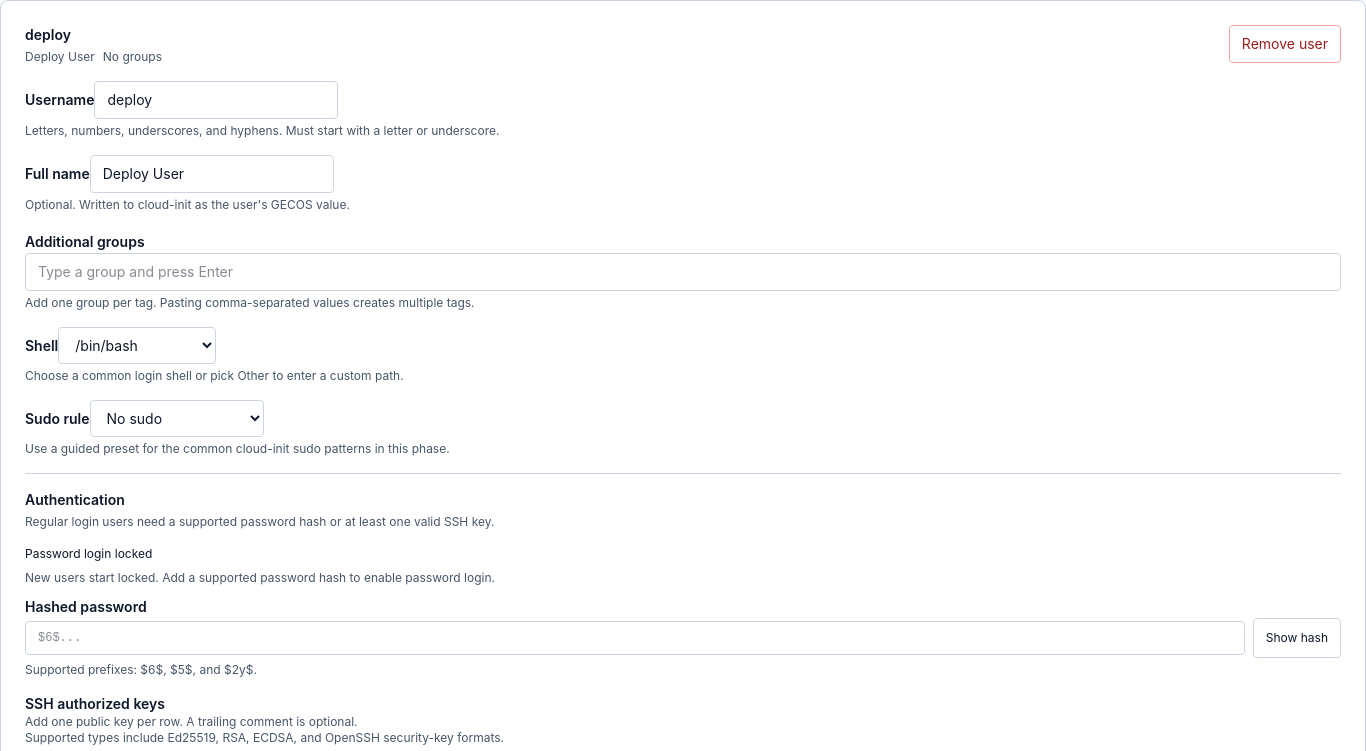
it: UserSafetyFields inline validation feedback › keeps untouched blank username quiet and reveals errors after blur
Expected: the text "Export blocked: enter a username or clear the other fields" is not shown
Clear the field labelled "Username" at [216, 100], box [94, 81, 338, 119]
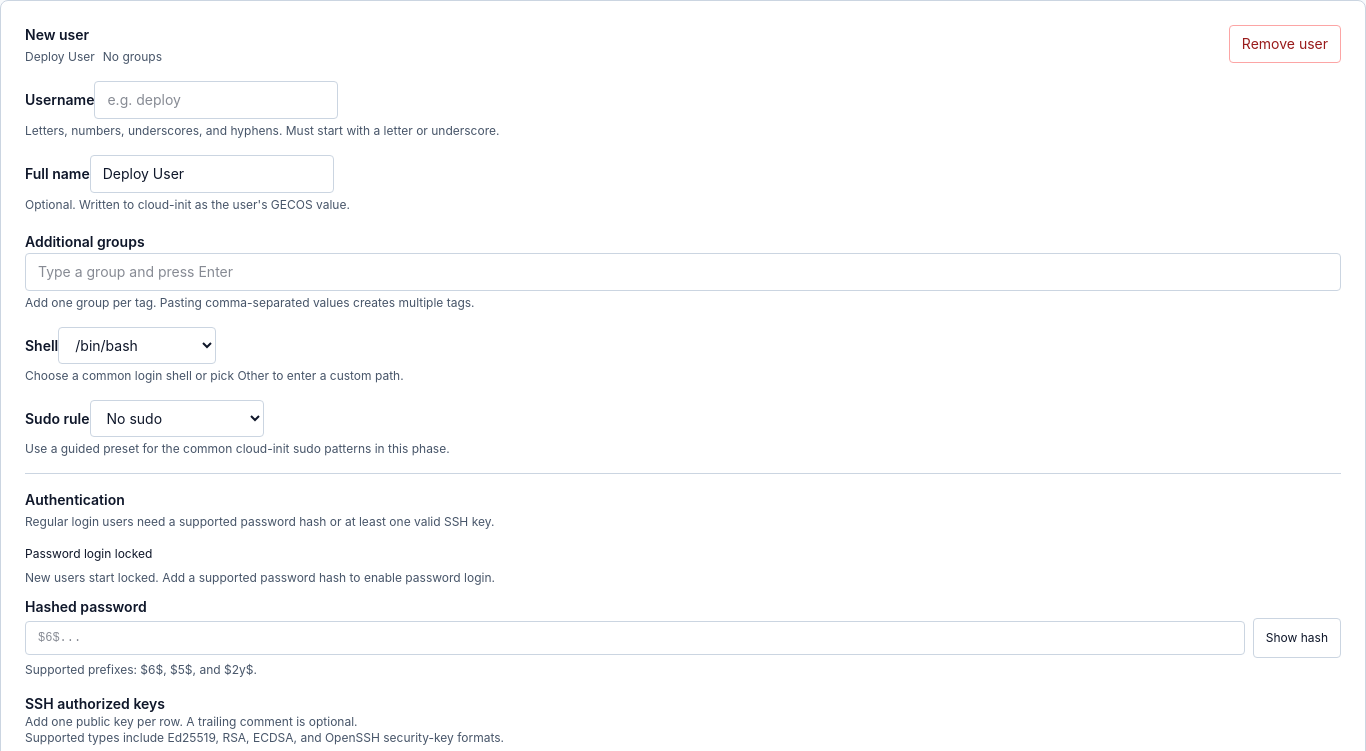
Leave the field labelled "Username", box [94, 81, 338, 119]
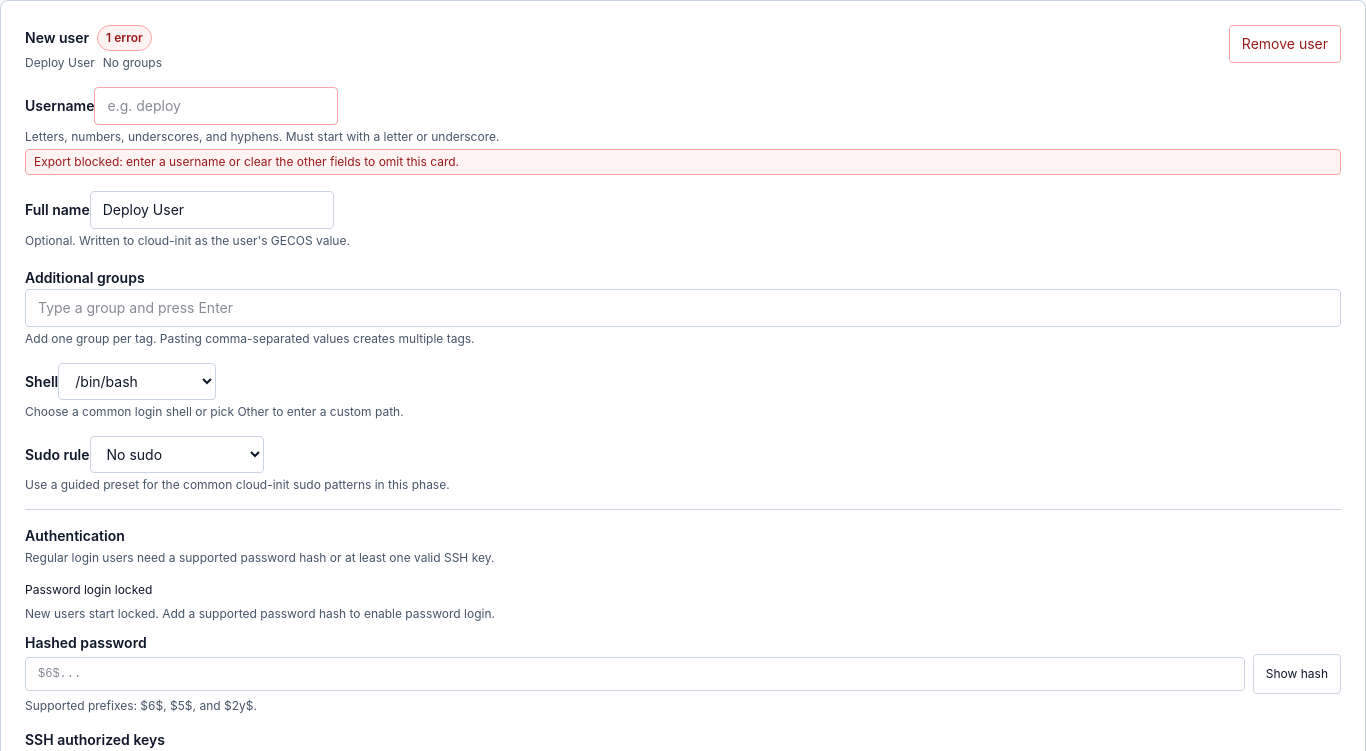
Result: the text "Export blocked: enter a username or clear the other fields to omit this card." is shown at [25, 149, 1341, 175]
